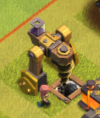dark_elixir_colector: (15, 15, 83, 102)
